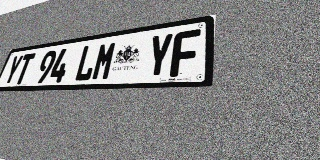4: (48, 48, 73, 83)
9: (34, 50, 58, 84)
F: (169, 29, 201, 77)
L: (73, 44, 100, 82)
M: (91, 41, 118, 81)
T: (13, 53, 36, 85)
Y: (144, 33, 174, 78), (2, 55, 24, 85)
